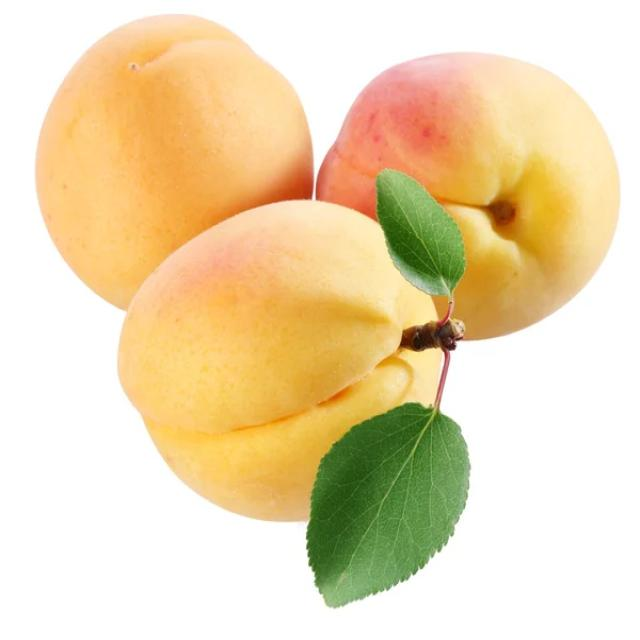kayisi: (124, 198, 453, 498), (366, 54, 606, 324), (54, 30, 298, 278)
yaprak: (344, 407, 472, 617), (378, 180, 480, 308)
